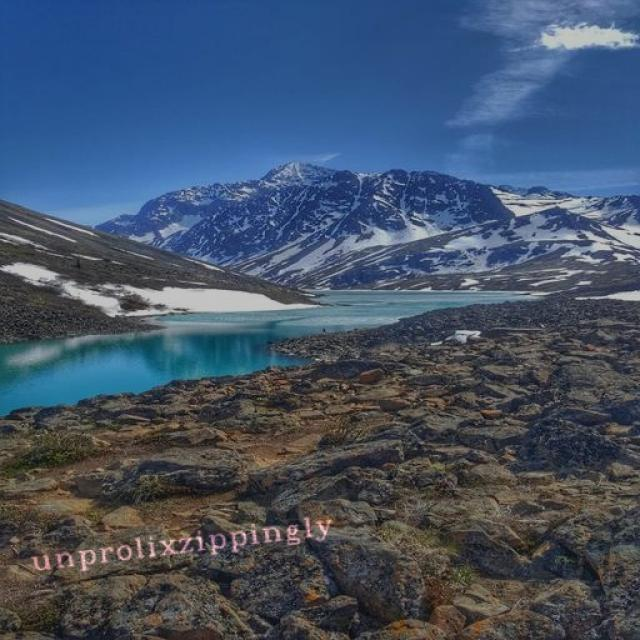watermark: (23, 512, 334, 574)
